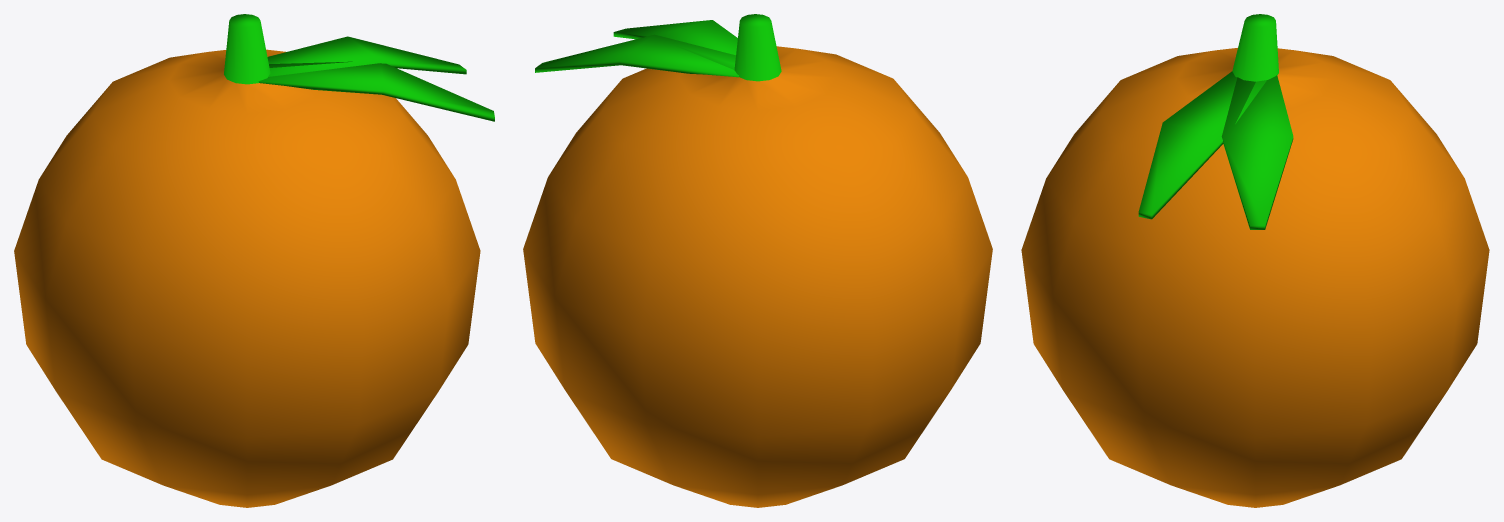
Rendered from orange.fbx.
3 views of the same model, side by side, from view 1: azimuth 30°, elevation 25°; view 2: azimuth 150°, elevation 25°; view 3: azimuth 270°, elevation 25° (orthographic).
Parts seen in each view (by area): view 1: orange; view 2: orange; view 3: orange.
Part boxes in pixels (x1,y1,x2,y2): orange: [14, 14, 494, 507]; orange: [523, 14, 992, 507]; orange: [1021, 14, 1489, 507].
Bounding box in the file's own units: 67.87 × 71.6 × 65.49.
